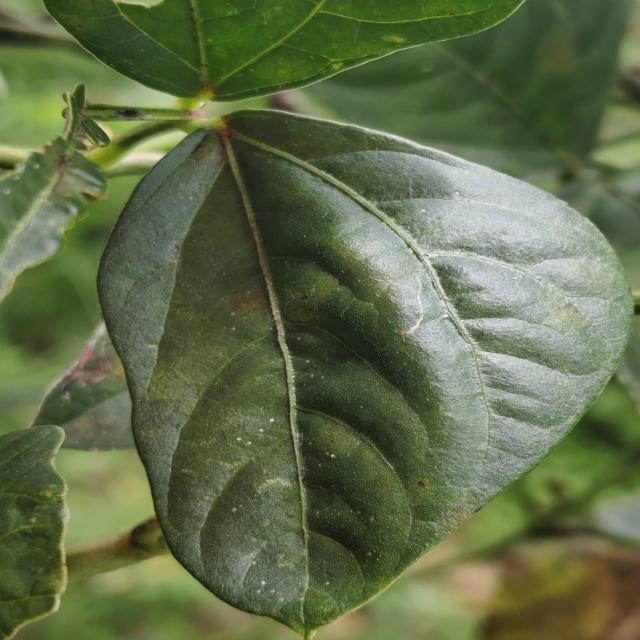sitaw-aphid-high: (97, 110, 633, 640), (44, 0, 525, 101), (0, 425, 69, 640)
